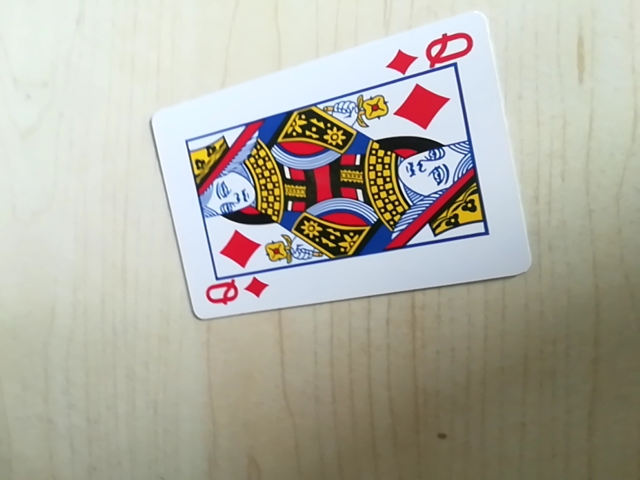fk q: (386, 26, 478, 80), (199, 269, 272, 314)
